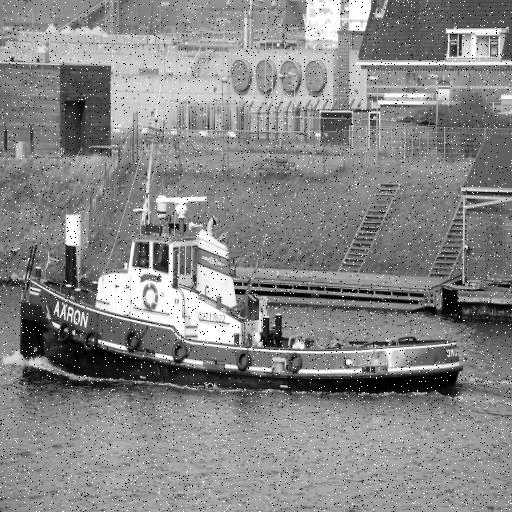tugboat: (19, 189, 468, 409)
